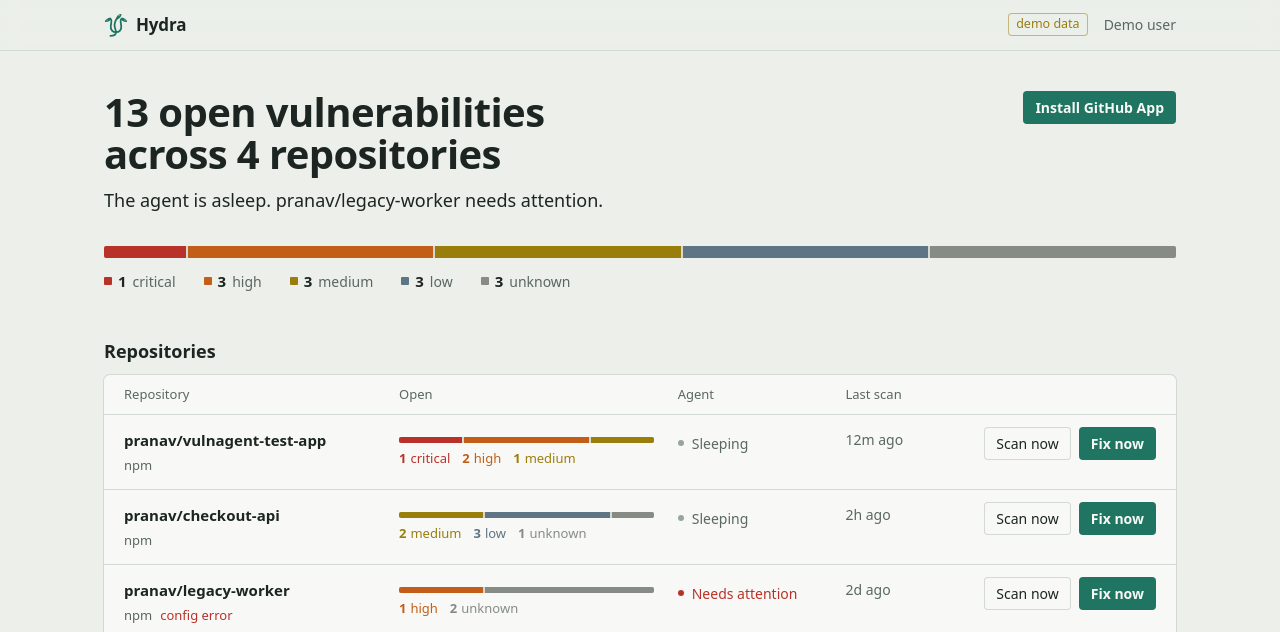
Test case: pressing Fix now › starts a run and shows it on the timeline
Click the link "pranav/vulnagent-test-app": (225, 440) [124,430,326,450]
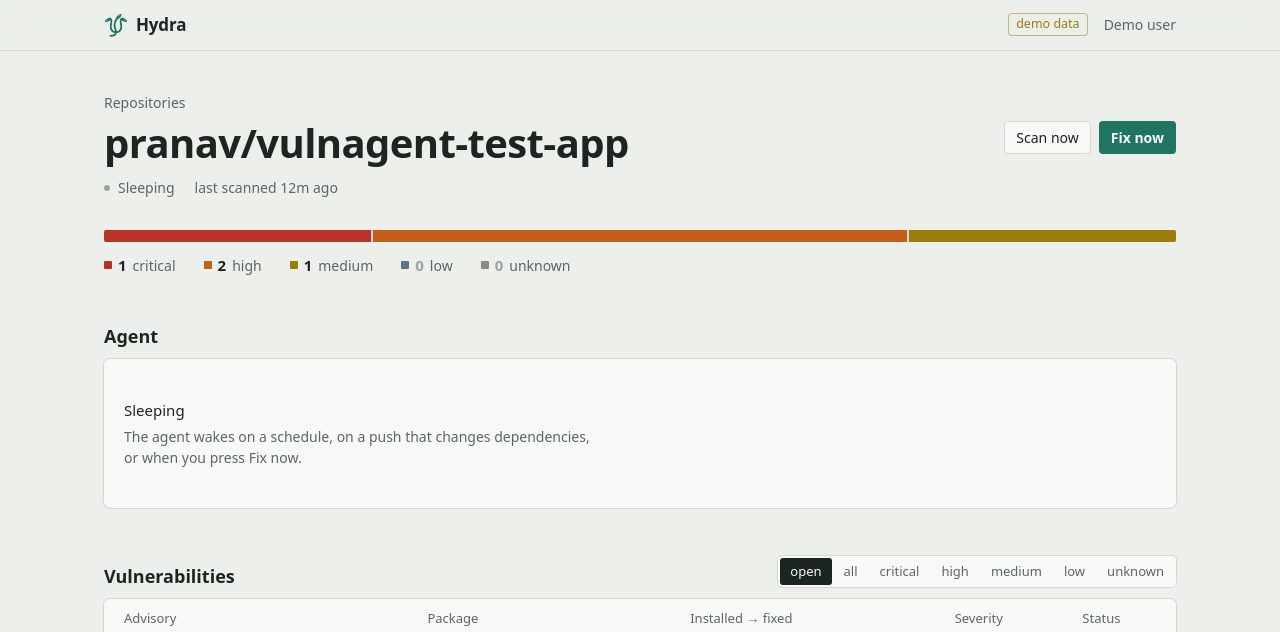
Click the button "Fix now": (1137, 138) [1099,121,1176,154]
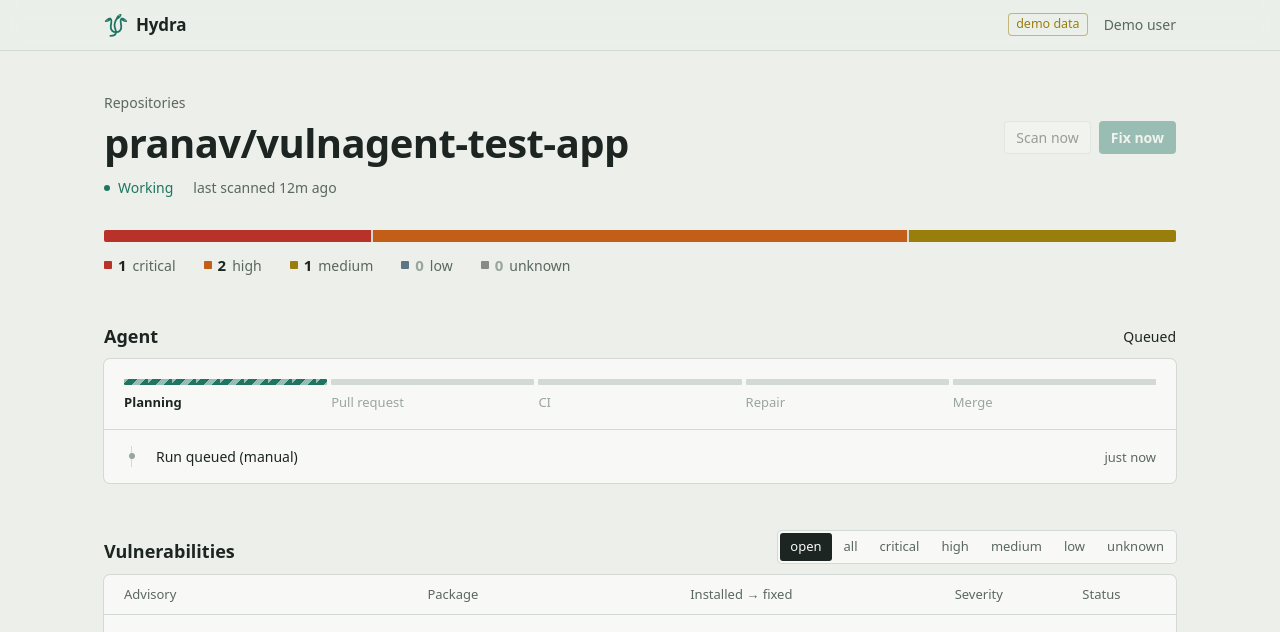
Now the text "Run queued (manual)" is shown, box [156,446,298,466]
